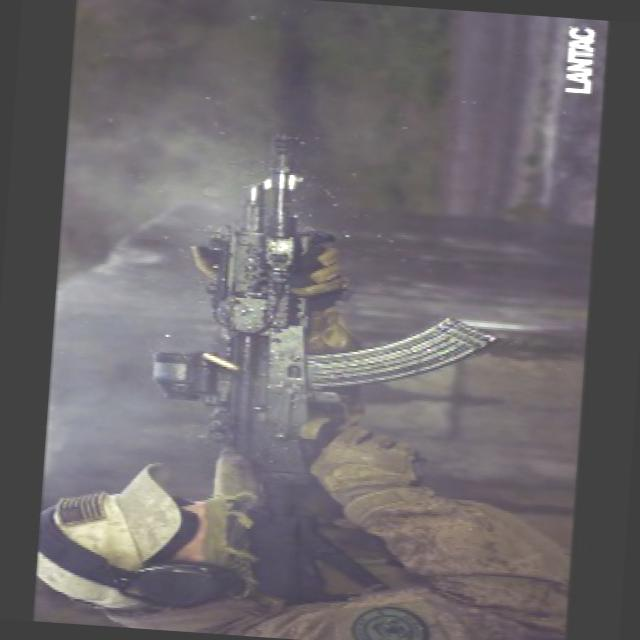long weapon: (134, 120, 508, 610)
